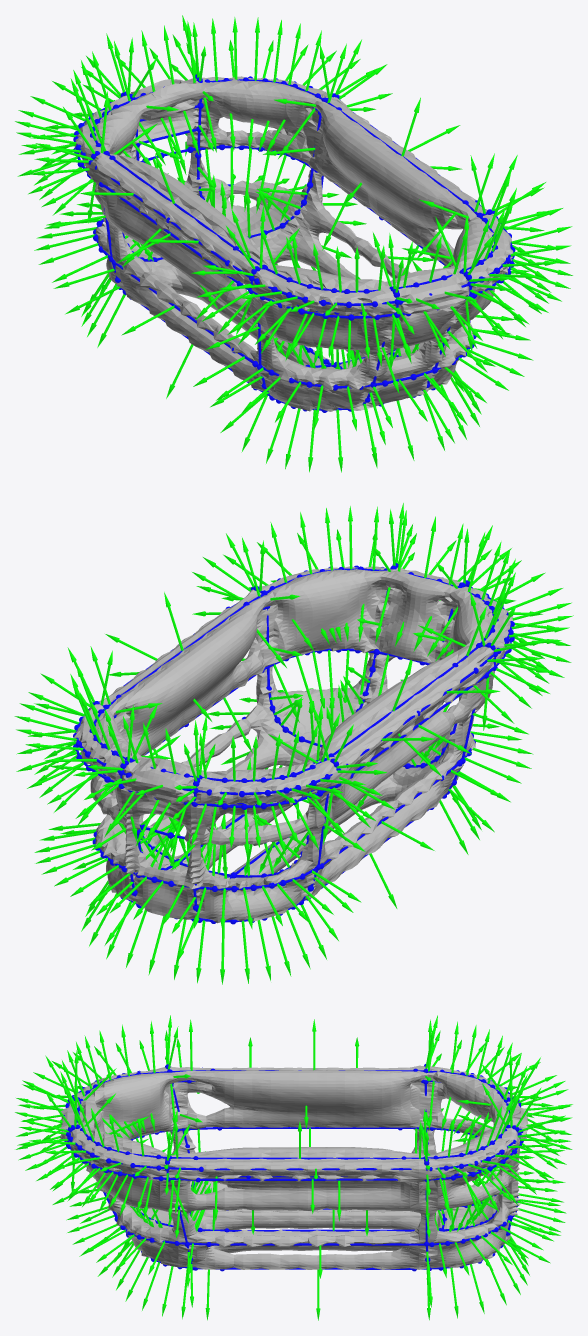
File: flowrep_bathtub.gltf
3 renders of one model, top to bottom at view 1: azimuth 30°, elevation 25°; view 2: azimuth 150°, elevation 25°; view 3: azimuth 270°, elevation 25°, orthographic. The views are drawn at different scales.
Bounding box in the file's own units: 0.6369 × 0.4353 × 1.05.
